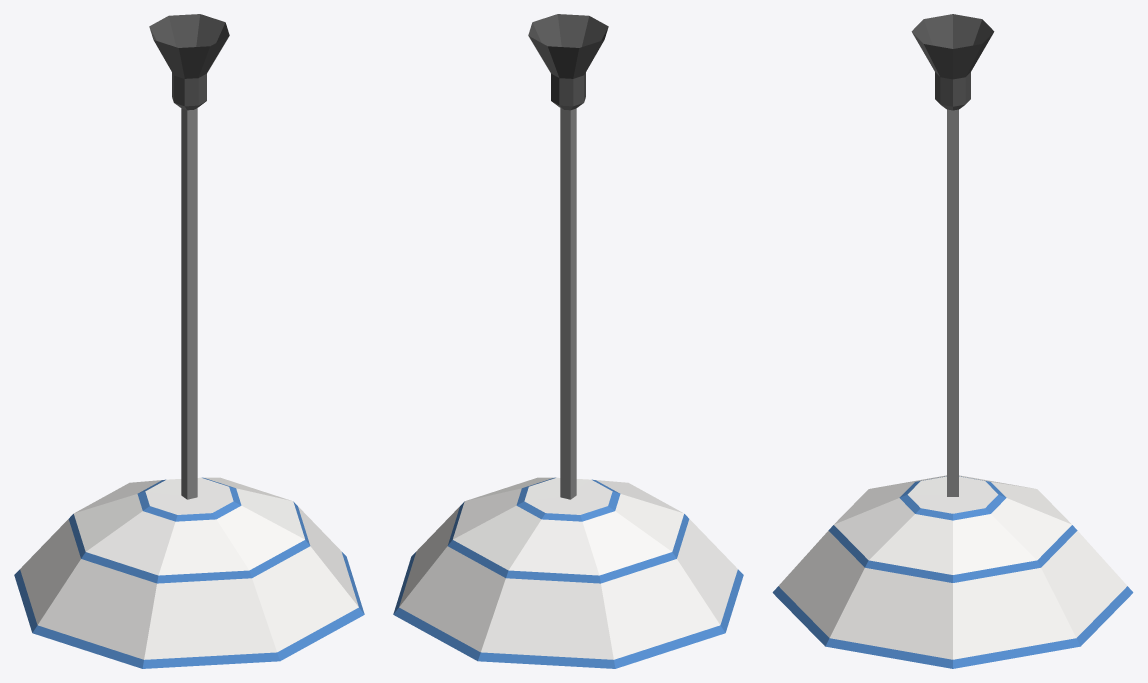
The model's file is Chandelier_1.fbx.
3 views of the same model, side by side, from view 1: azimuth 30°, elevation 25°; view 2: azimuth 150°, elevation 25°; view 3: azimuth 270°, elevation 25° (orthographic).
Parts seen in each view (by area): view 1: Chandelier_1; view 2: Chandelier_1; view 3: Chandelier_1.
Part boxes in pixels (box(x1,y1,x2,y2)): Chandelier_1: box(14, 14, 364, 668); Chandelier_1: box(393, 14, 743, 668); Chandelier_1: box(772, 14, 1133, 668).
Bounding box in the file's own units: 91.79 × 91.79 × 157.
